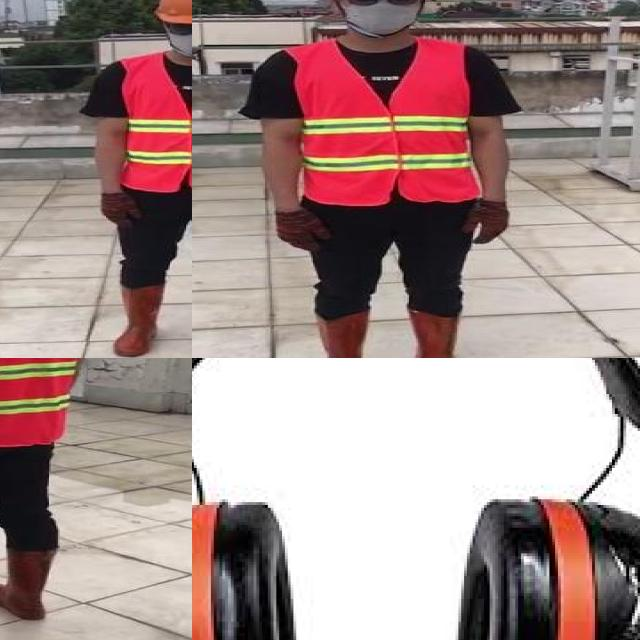Ear-protection: (486, 488, 640, 640)
boots: (0, 544, 58, 620), (405, 306, 483, 358), (115, 283, 165, 357), (307, 312, 366, 358)
face_mask: (337, 0, 426, 39), (162, 15, 192, 57)
glasses: (334, 0, 423, 9), (163, 15, 192, 39)
hand_glove: (272, 211, 333, 255), (466, 203, 508, 246), (99, 192, 140, 227)
head_helmet: (150, 0, 192, 25)
person: (248, 0, 527, 358), (84, 0, 192, 358), (0, 358, 110, 637)
vest: (284, 44, 476, 205), (120, 53, 192, 194), (0, 358, 100, 445)
